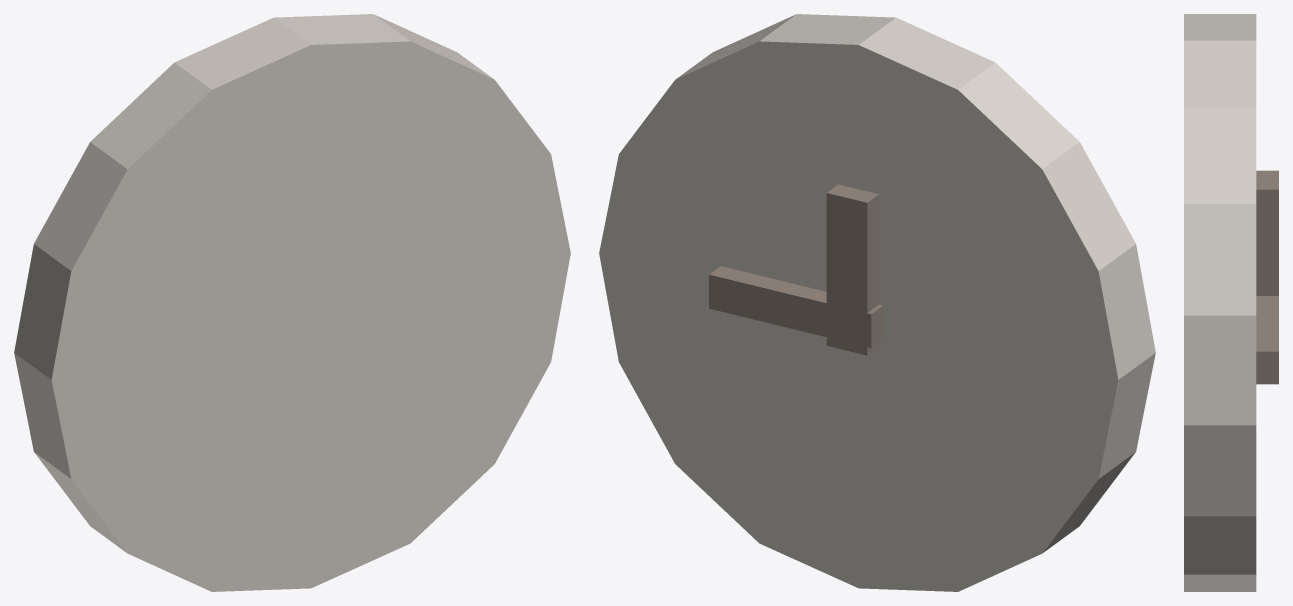
Rendered from bed_aces_relogio.glb.
3 views of the same model, side by side, from view 1: azimuth 30°, elevation 25°; view 2: azimuth 150°, elevation 25°; view 3: azimuth 270°, elevation 25° (orthographic). The views are drawn at different scales.
Parts seen in each view (by area): view 1: BED_Aces_Relogio_v01; view 2: BED_Aces_Relogio_v01; view 3: BED_Aces_Relogio_v01.
Boxes of the visible parts, box(x1,y1,x2,y2) form: BED_Aces_Relogio_v01: box(14, 14, 570, 591); BED_Aces_Relogio_v01: box(599, 14, 1155, 591); BED_Aces_Relogio_v01: box(1184, 14, 1278, 591).
Size of the model in its own units: 0.32 by 0.32 by 0.0525.
